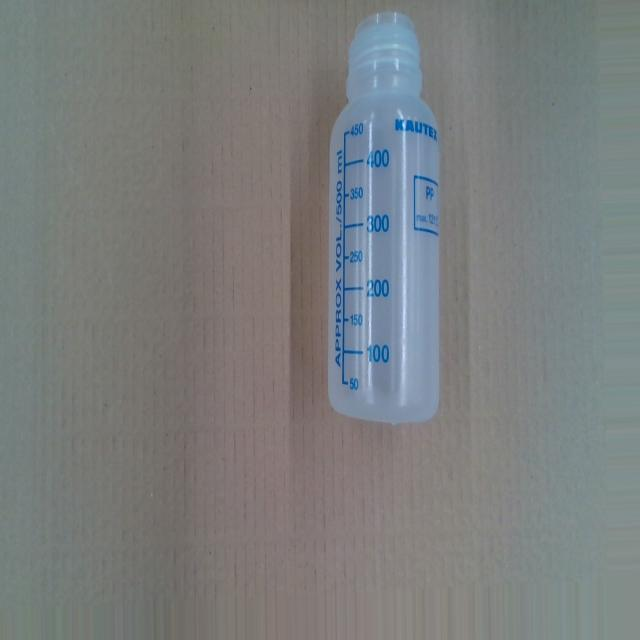bottle: (328, 13, 440, 419)
